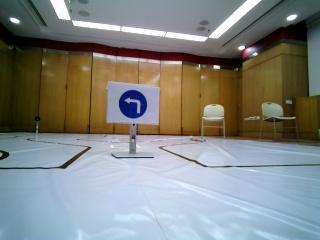left: (110, 86, 152, 120)
